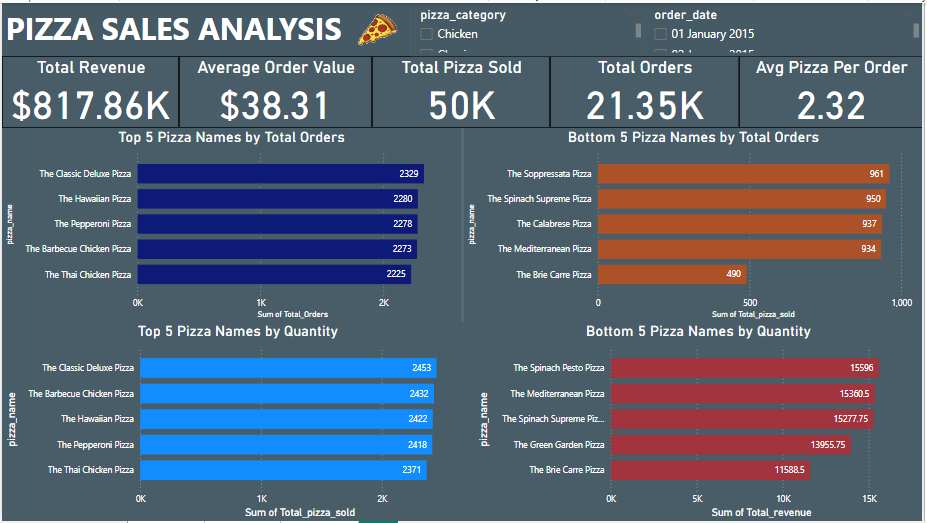

What the dashboard file says about the page in this screenshot:
{"tool":"powerbi","page":{"name":" Page 3","canvas":[1280,720],"ordinal":2},"visuals":[{"type":"textbox","box":[0,0,568.5,73.7],"z":0},{"type":"card","title":"Total Revenue","fields":{"Values":["Sum(unified_mentor pizza_sales.total_price)"]},"box":[0,73.7,246,100.1],"z":1000},{"type":"card","title":"Average Order Value","fields":{"Values":["unified_mentor pizza_sales.Average order value"]},"box":[246,73.7,268.3,100.1],"z":2000},{"type":"card","title":"Total Pizza Sold","fields":{"Values":["Sum(unified_mentor pizza_sales.quantity)"]},"box":[514.3,73.7,247.4,100.1],"z":3000},{"type":"card","title":"Total Orders","fields":{"Values":["Count(unified_mentor pizza_sales.order_id)"]},"box":[761.7,73.7,262.7,100.1],"z":4000},{"type":"card","title":"Avg Pizza Per Order","fields":{"Values":["unified_mentor pizza_sales.Avg_pizza_per_order"]},"box":[1024.4,73.7,255.8,100.1],"z":5000},{"type":"barChart","title":"Top 5 Pizza Names by Quantity","fields":{"Y":["Sum(pizza_quantity.Total_pizza_sold)"],"Category":["pizza_quantity.pizza_name"]},"box":[0,443.4,656.1,276.6],"z":6000},{"type":"barChart","title":"Bottom 5 Pizza Names by Quantity","fields":{"Category":["bottom_pizza_sales.pizza_name"],"Y":["Sum(bottom_pizza_sales.Total_revenue)"]},"box":[656.1,443.4,624.1,276.6],"z":7000},{"type":"slicer","fields":{"Values":["pizza_sales.pizza_category"]},"box":[568.5,0,325.3,73.7],"z":8000},{"type":"slicer","fields":{"Values":["pizza_sales.order_date"]},"box":[893.6,0,386.4,73.7],"z":9000},{"type":"barChart","title":"Top 5 Pizza Names by Total Orders","fields":{"Category":["pizza_total_orders.pizza_name"],"Y":["Sum(pizza_total_orders.Total_Orders)"]},"box":[0,173.7,638,269.7],"z":10000},{"type":"barChart","title":"Bottom 5 Pizza Names by Total Orders","fields":{"Category":["bottom_pizza_orders.pizza_name"],"Y":["Sum(bottom_pizza_orders.Total_pizza_sold)"]},"box":[642.2,173.7,638,269.7],"z":11000},{"type":"image","box":[474,0,94.5,73.7],"z":12000}]}

Visuals, with their boxes in screenshot pixels (x1, y1, x2, y2), scaled from the page's 1280x720 canvas onto the 927x523 screenshot:
textbox: <box>0,0,412,54</box>
"Total Revenue" card: <box>0,54,178,126</box>
"Average Order Value" card: <box>178,54,372,126</box>
"Total Pizza Sold" card: <box>372,54,552,126</box>
"Total Orders" card: <box>552,54,742,126</box>
"Avg Pizza Per Order" card: <box>742,54,926,126</box>
"Top 5 Pizza Names by Quantity" barChart: <box>0,322,475,522</box>
"Bottom 5 Pizza Names by Quantity" barChart: <box>475,322,926,522</box>
slicer - pizza_sales.pizza_category: <box>412,0,647,54</box>
slicer - pizza_sales.order_date: <box>647,0,926,54</box>
"Top 5 Pizza Names by Total Orders" barChart: <box>0,126,462,322</box>
"Bottom 5 Pizza Names by Total Orders" barChart: <box>465,126,926,322</box>
image: <box>343,0,412,54</box>
